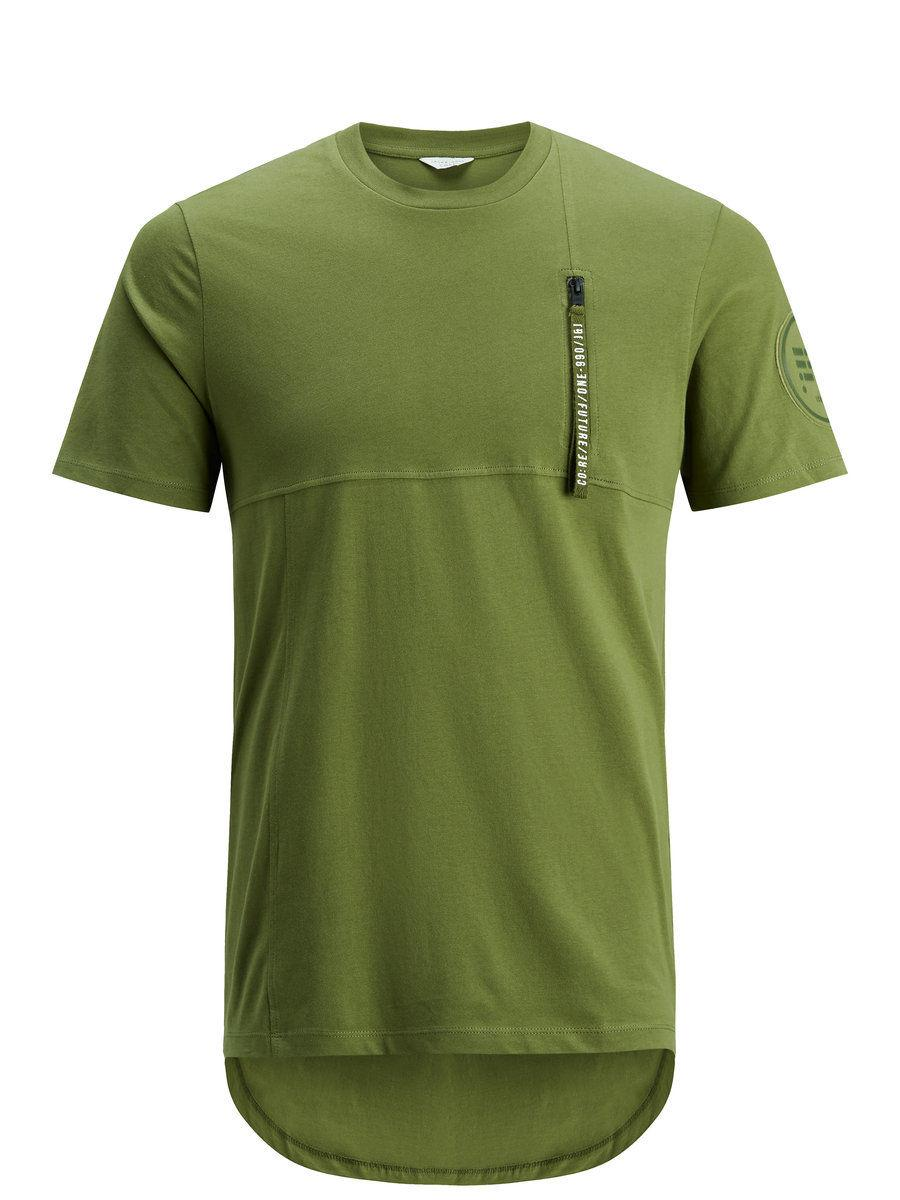teeshirt: (49, 103, 876, 1183)
